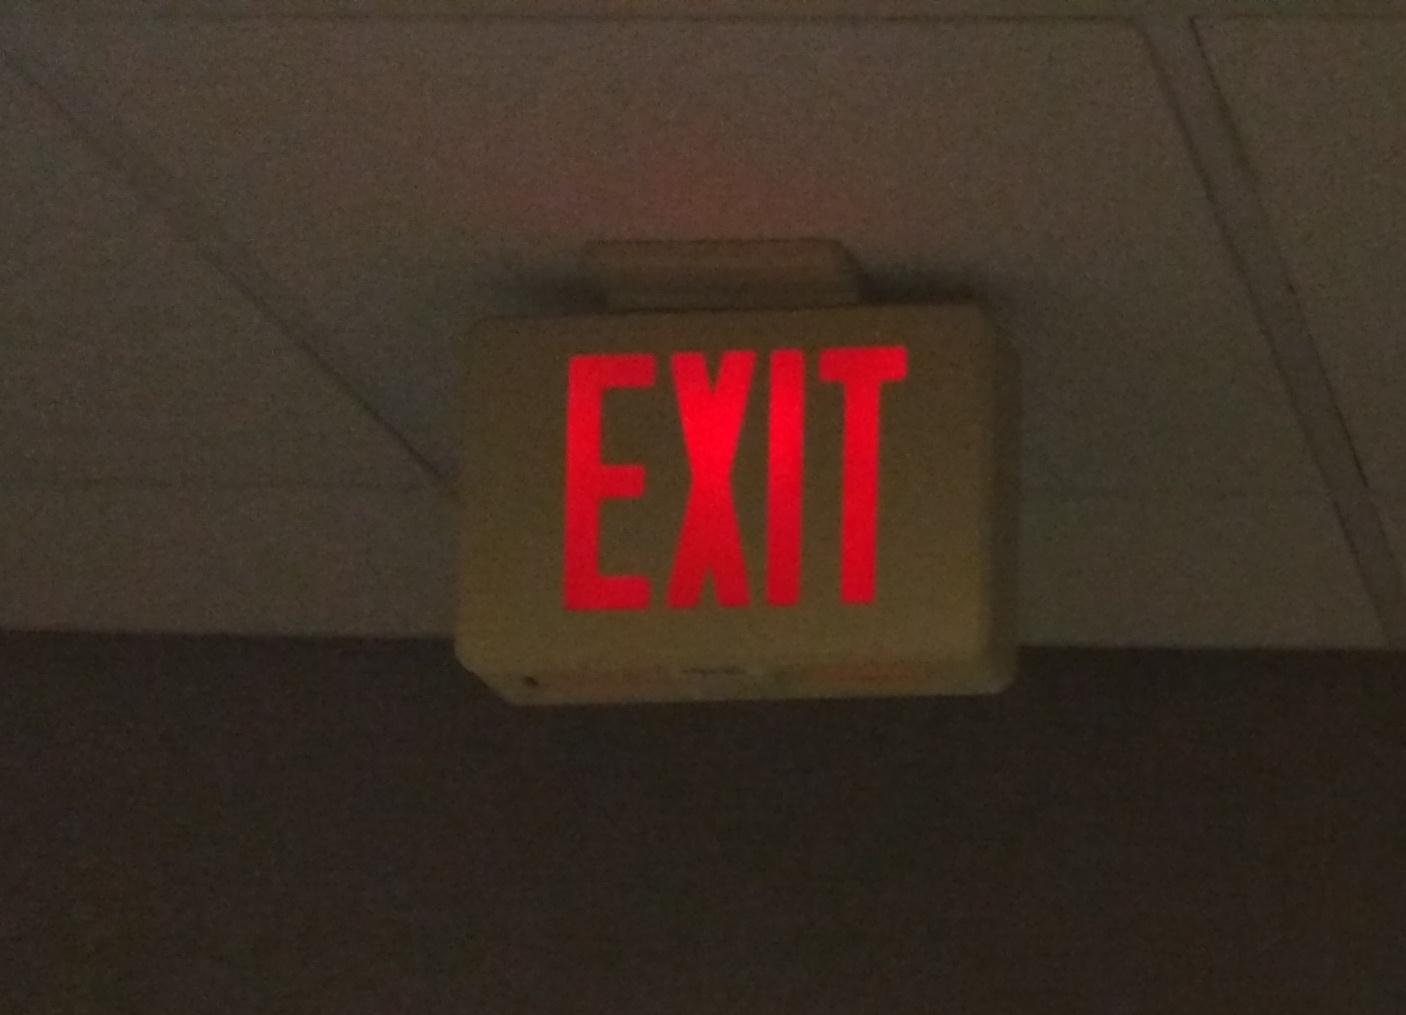sign: (461, 303, 1023, 706)
